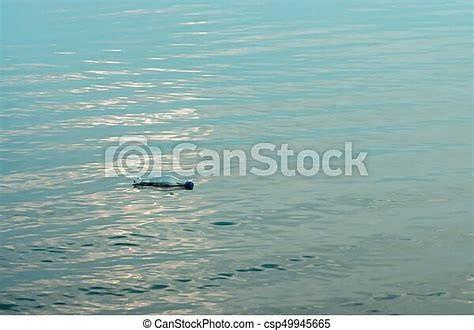Plastic: (133, 175, 194, 191)
